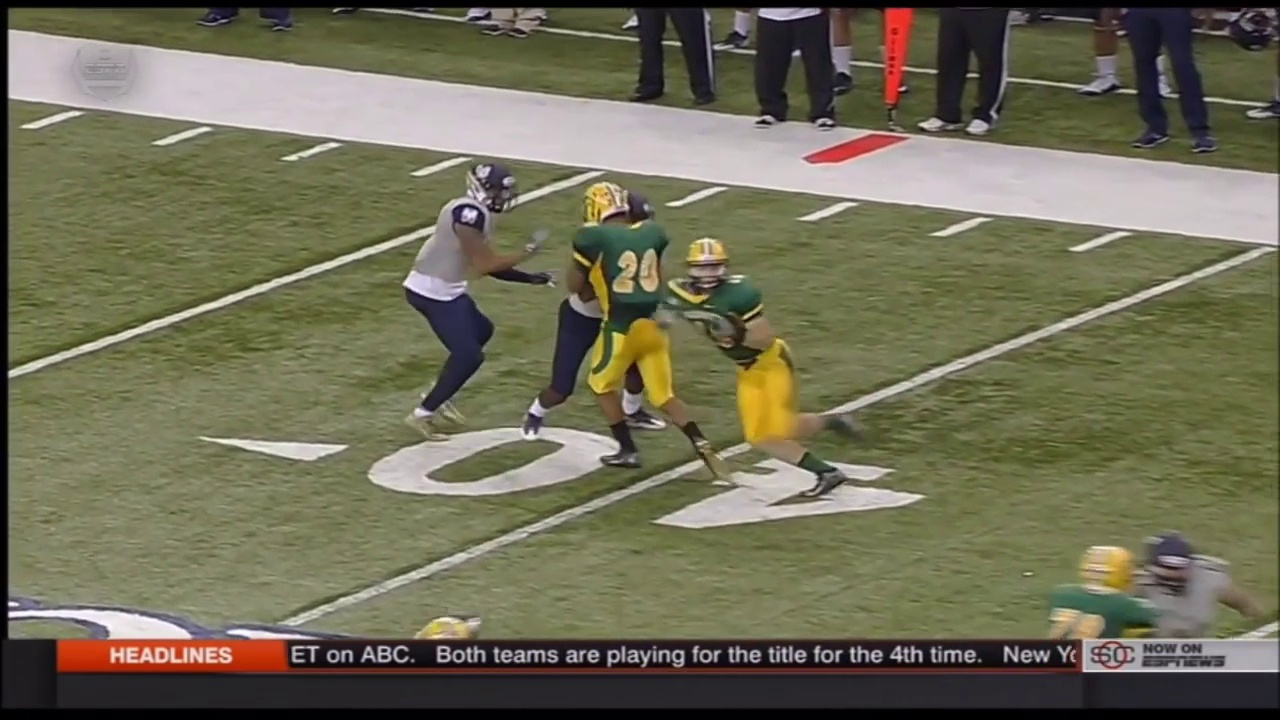interference: (578, 203, 670, 338)
